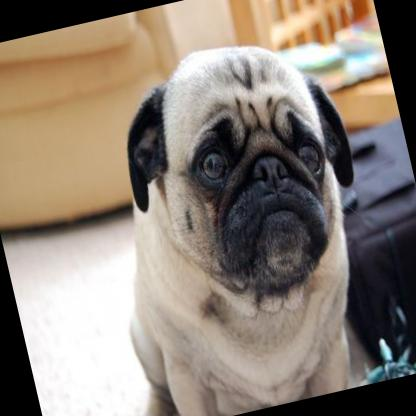pug: (54, 19, 402, 416)
